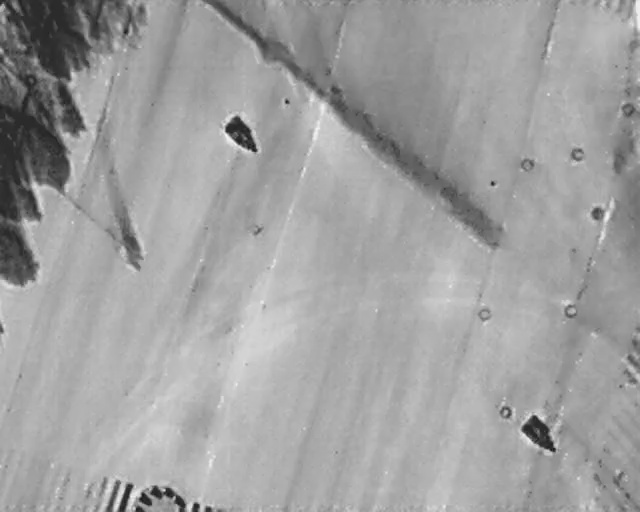Bicycle: (513, 409, 568, 463), (220, 111, 266, 160)
